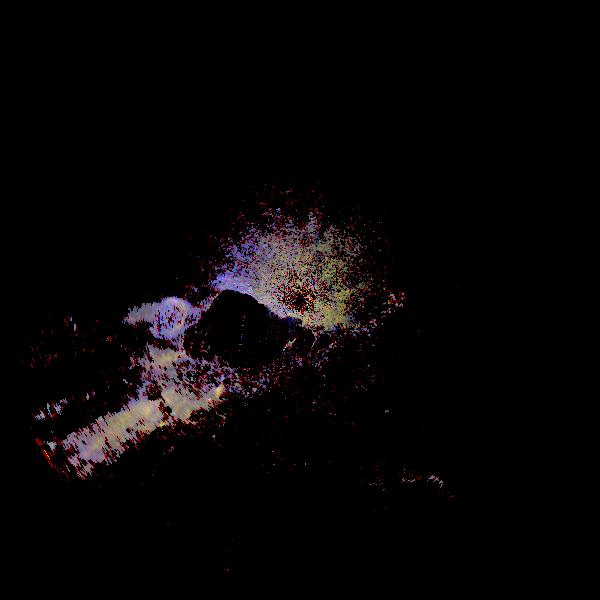roost: (326, 437, 506, 600)
